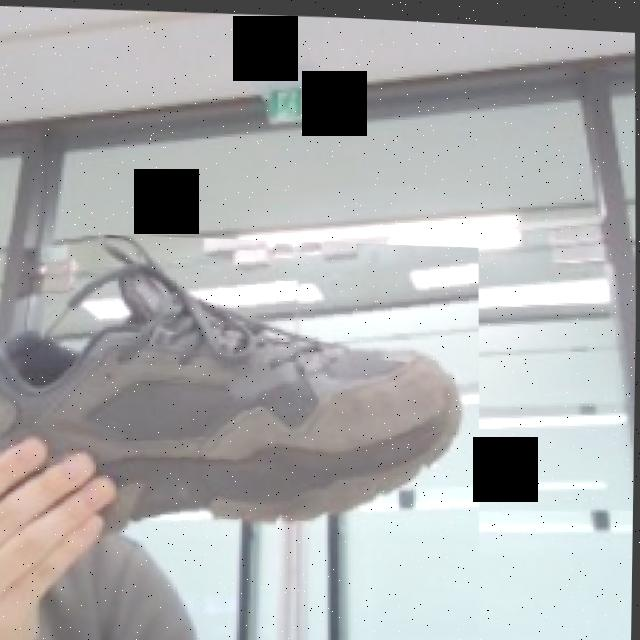shoe: (0, 222, 485, 640)
